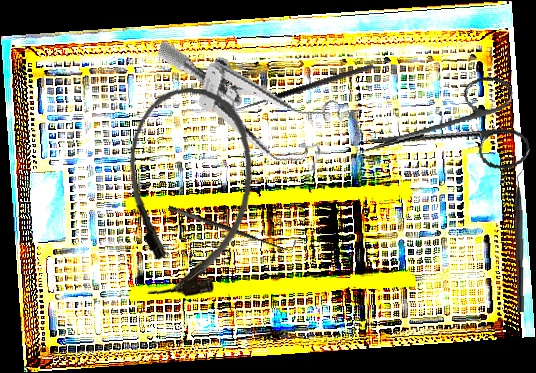Cannula: (120, 84, 258, 301)
Chopper: (511, 165, 535, 312)
Hook Surgical: (233, 62, 377, 121), (167, 195, 298, 258)
Iris Scissors: (353, 71, 533, 195)
Speculum: (138, 39, 355, 178)
